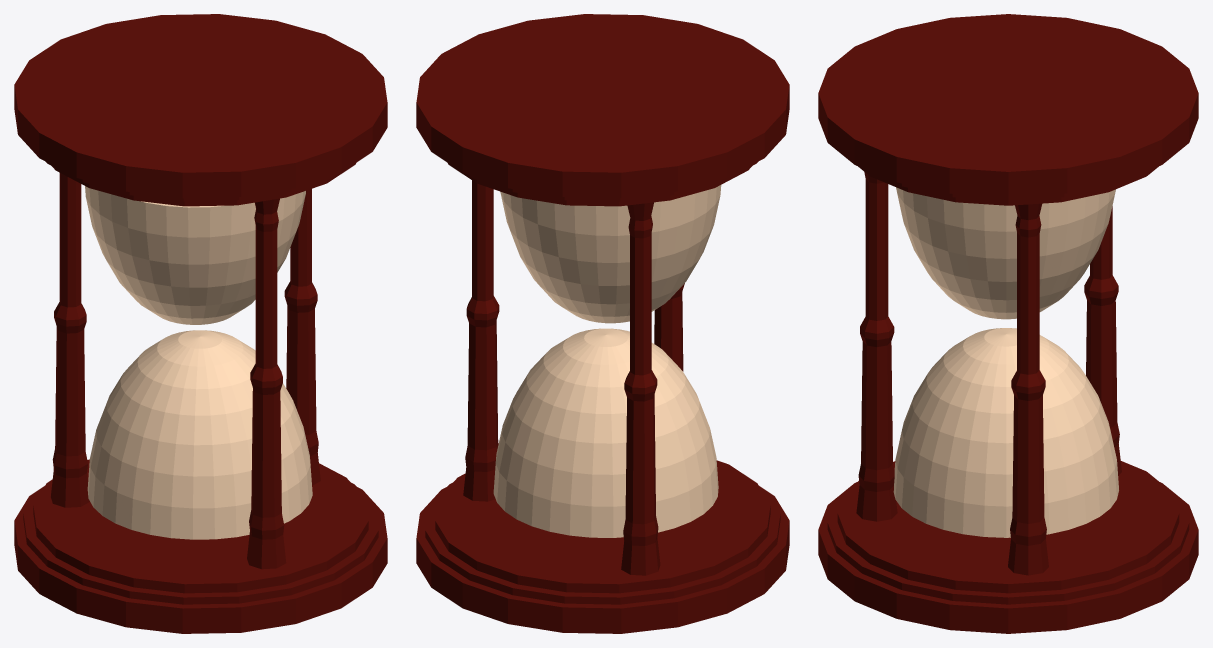
File: hourglass.fbx
The picture shows the model from 3 angles, left to right: view 1: azimuth 30°, elevation 25°; view 2: azimuth 150°, elevation 25°; view 3: azimuth 270°, elevation 25°; orthographic projection.
Parts seen in each view (by area): view 1: Cylinder; view 2: Cylinder; view 3: Cylinder.
Part boxes in pixels (x1,y1,x2,y2): Cylinder: [14, 14, 387, 633]; Cylinder: [416, 14, 789, 633]; Cylinder: [818, 14, 1198, 633].
Bounding box in the file's own units: 842 × 1148 × 856.
